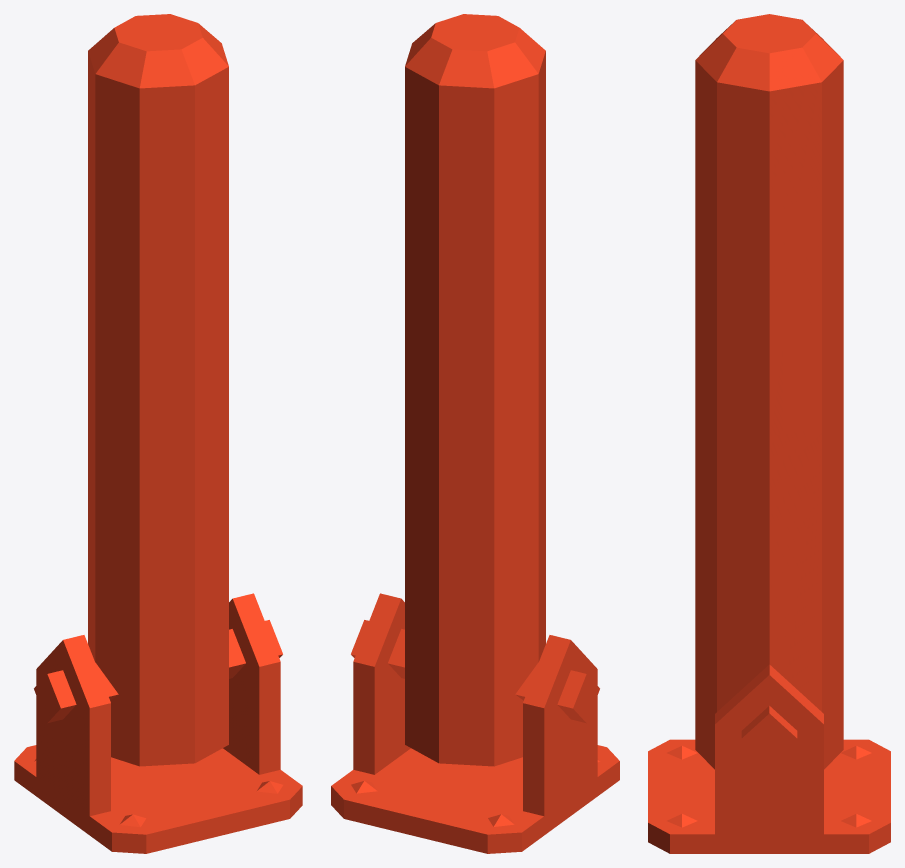
The model's file is SM_Bollard_C_City.fbx.
3 views of the same model, side by side, from view 1: azimuth 30°, elevation 25°; view 2: azimuth 150°, elevation 25°; view 3: azimuth 270°, elevation 25° (orthographic).
Visible parts, largest first — view 1: SM_Bollard_C_City_Joint, SM_Bollard_C_City_Base; view 2: SM_Bollard_C_City_Joint, SM_Bollard_C_City_Base; view 3: SM_Bollard_C_City_Joint, SM_Bollard_C_City_Base.
Part boxes in pixels (box(x1,y1,x2,y2)): SM_Bollard_C_City_Joint: box(34, 14, 282, 766); SM_Bollard_C_City_Base: box(14, 593, 302, 853); SM_Bollard_C_City_Joint: box(351, 14, 599, 766); SM_Bollard_C_City_Base: box(331, 593, 619, 853); SM_Bollard_C_City_Joint: box(695, 14, 843, 769); SM_Bollard_C_City_Base: box(648, 664, 890, 853).
Bounding box in the file's own units: 0.1966 × 0.642 × 0.1829.
